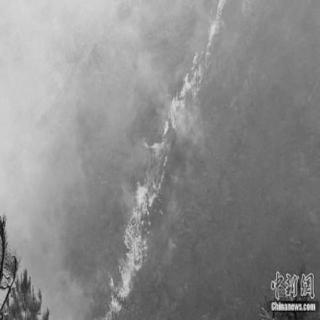Fire: (169, 2, 225, 118), (97, 262, 131, 318)
